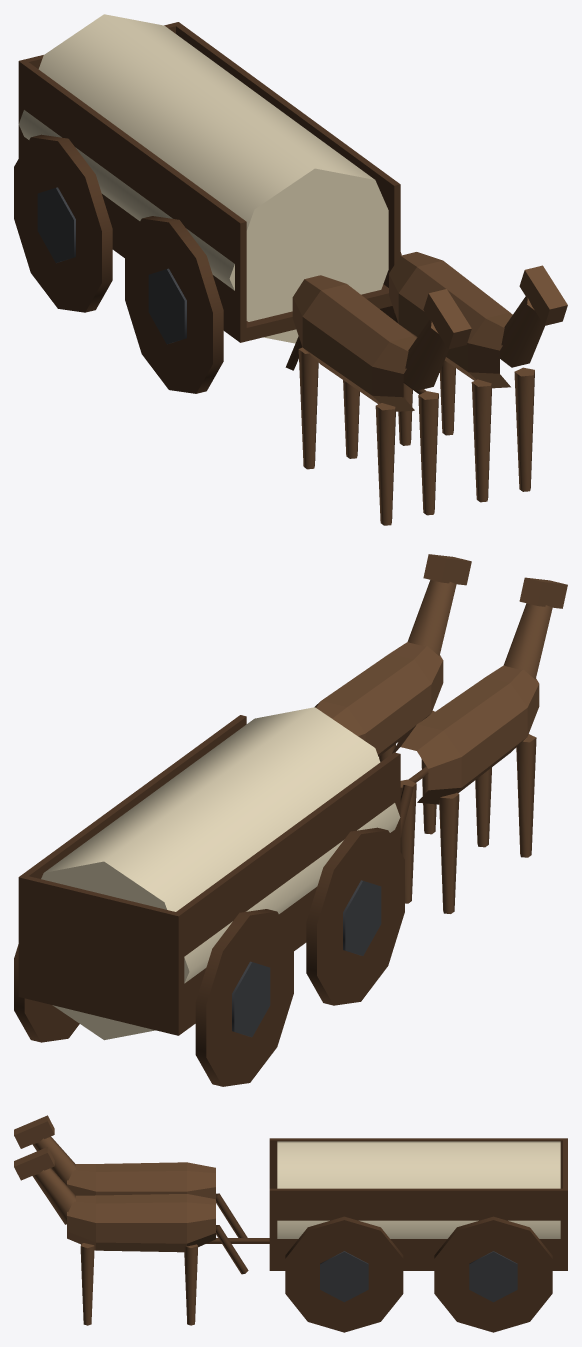
File: veh_ground_wagon_a05.glb
3 views of the same model, one above another, from view 1: azimuth 30°, elevation 25°; view 2: azimuth 150°, elevation 25°; view 3: azimuth 270°, elevation 25° (orthographic). The views are drawn at different scales.
Visible parts, largest first — view 1: body, animal_0, animal_1, wheel_0, wheel_2; view 2: body, animal_0, wheel_2, wheel_0, animal_1, wheel_1; view 3: body, animal_1, wheel_3, wheel_1, animal_0.
Part boxes in pixels (x1,y1,x2,y2): body: (18, 14, 426, 394); animal_0: (285, 275, 471, 525); animal_1: (389, 252, 567, 502); wheel_0: (14, 134, 112, 312); wheel_2: (125, 216, 223, 393); body: (18, 707, 428, 1040); animal_0: (392, 577, 567, 913); wheel_2: (306, 827, 404, 1005); wheel_0: (195, 909, 293, 1086); animal_1: (314, 554, 471, 834); wheel_1: (14, 944, 79, 1042); body: (206, 1138, 567, 1270); animal_1: (14, 1147, 248, 1325); wheel_3: (285, 1216, 403, 1332); wheel_1: (434, 1216, 552, 1332); animal_0: (14, 1115, 247, 1237).
Size of what is drawn, in the model's own units: 1.84 by 2.23 by 6.69.
